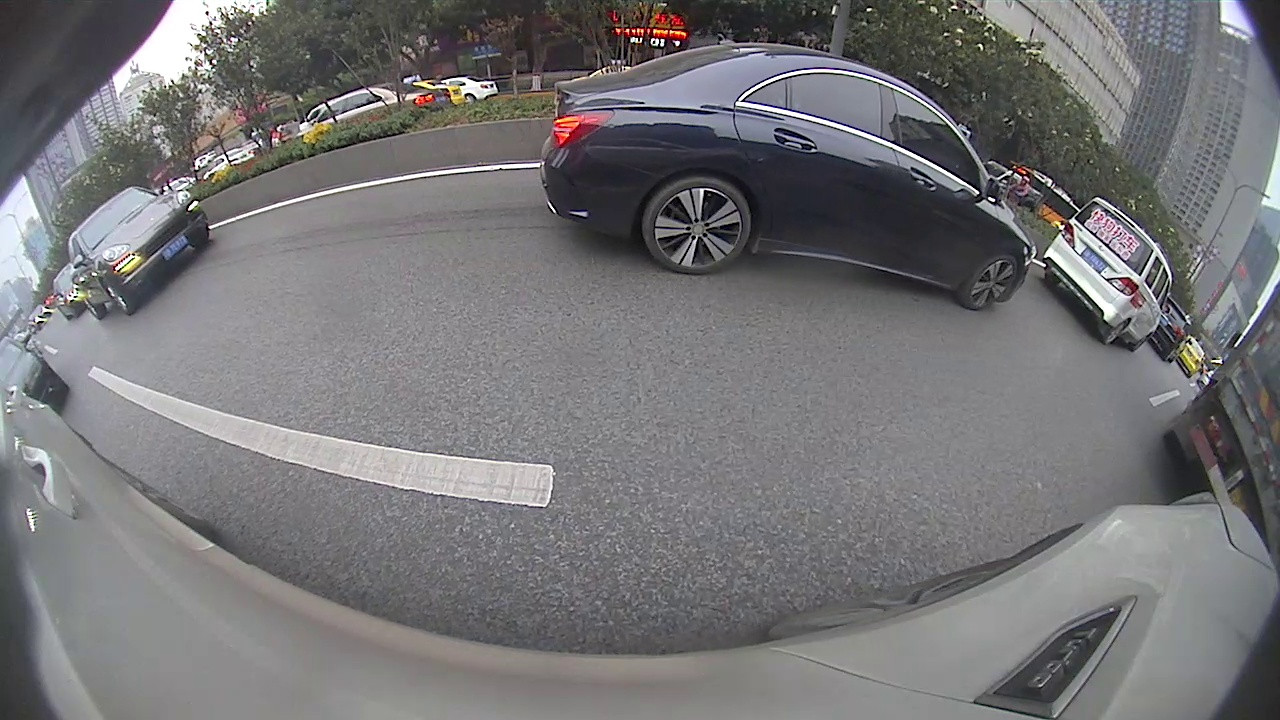car: (540, 43, 1038, 310), (59, 187, 215, 322), (1044, 194, 1171, 351)
front: (962, 257, 1020, 309), (103, 280, 133, 315)
rear: (644, 175, 748, 273), (1102, 318, 1129, 347)
